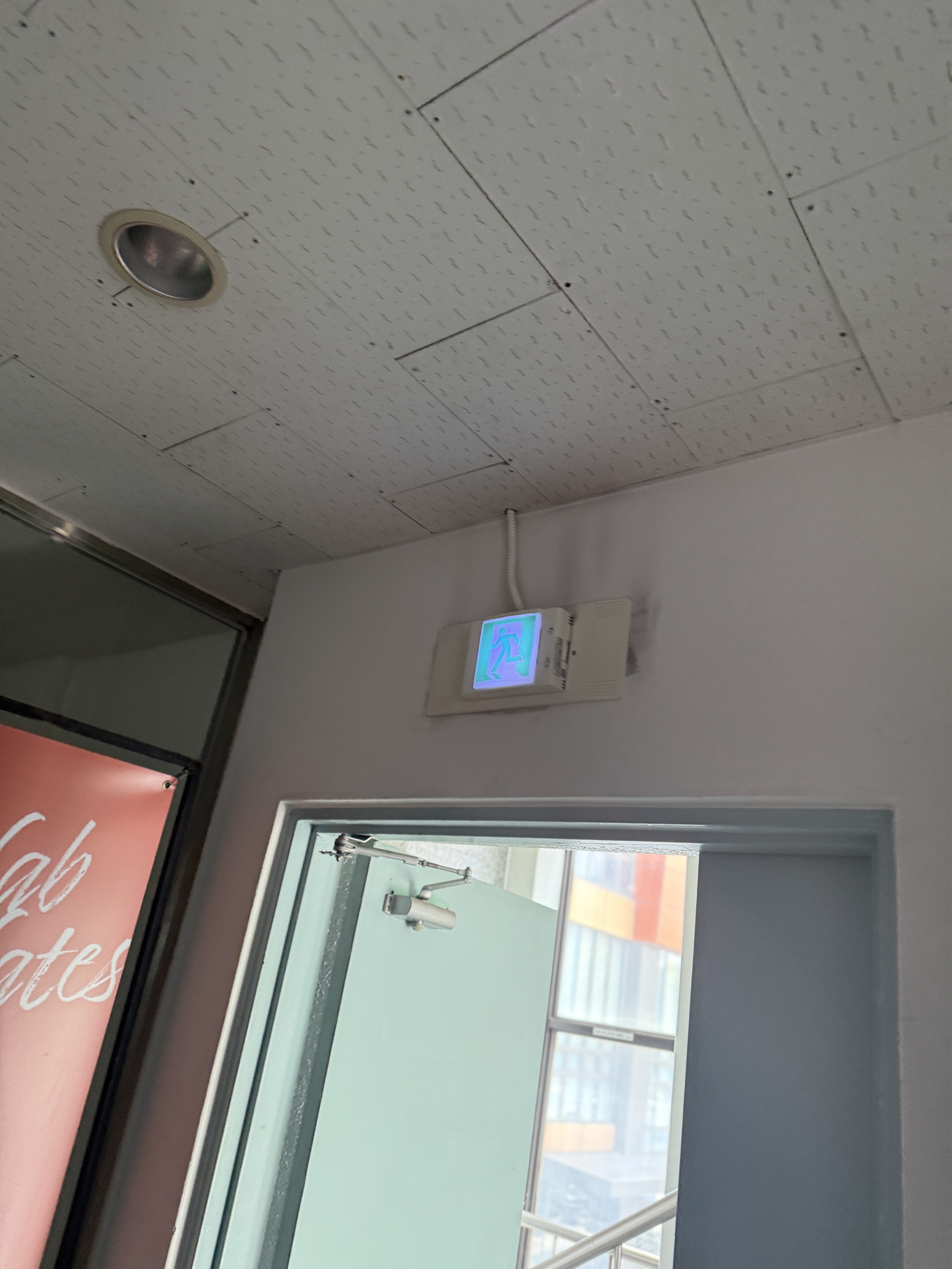emergency_exit: (1, 717, 191, 1265)
